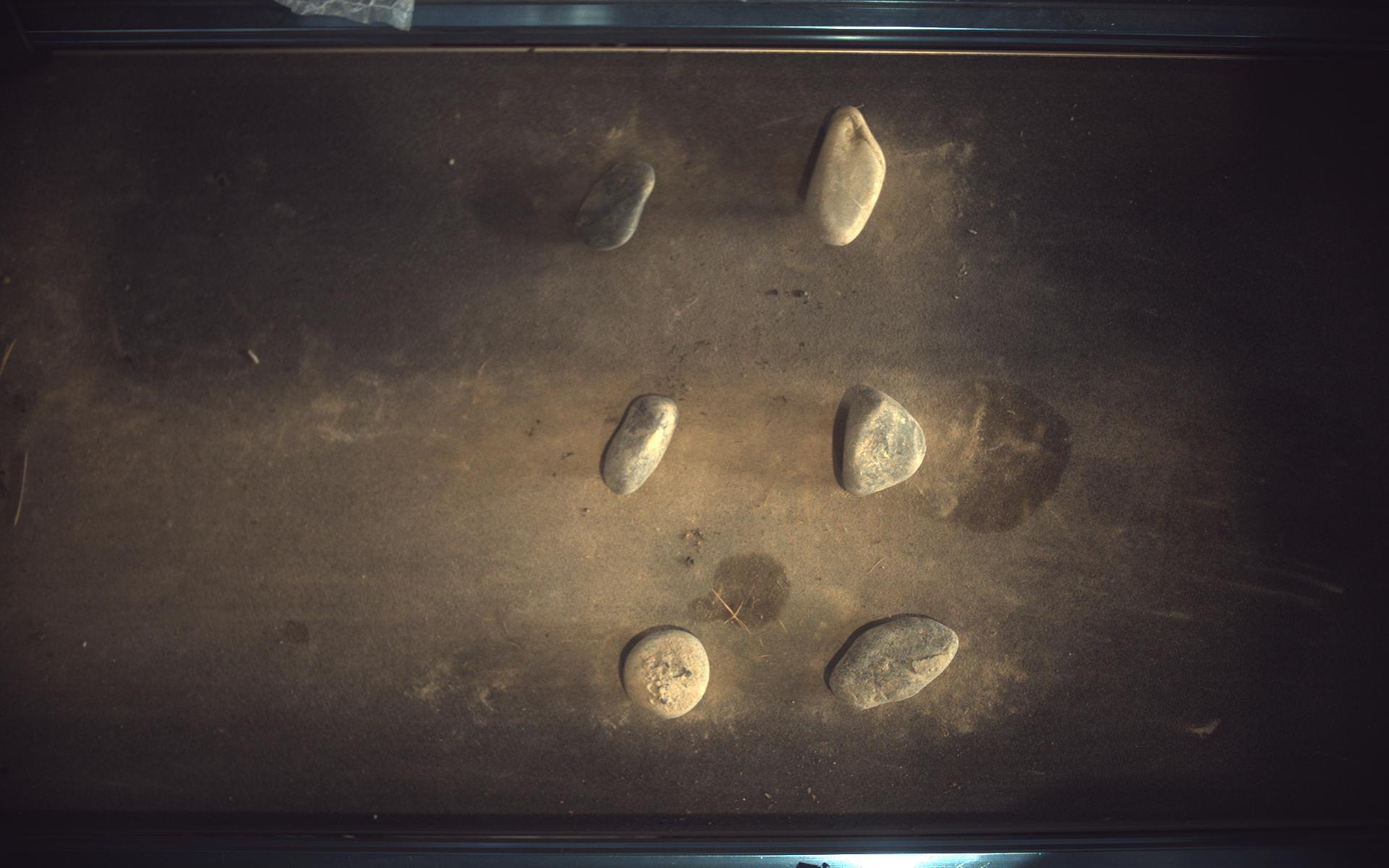stone: (831, 616, 961, 710), (807, 105, 888, 245), (843, 386, 928, 496), (624, 629, 710, 720), (602, 394, 679, 495), (576, 160, 655, 250)
